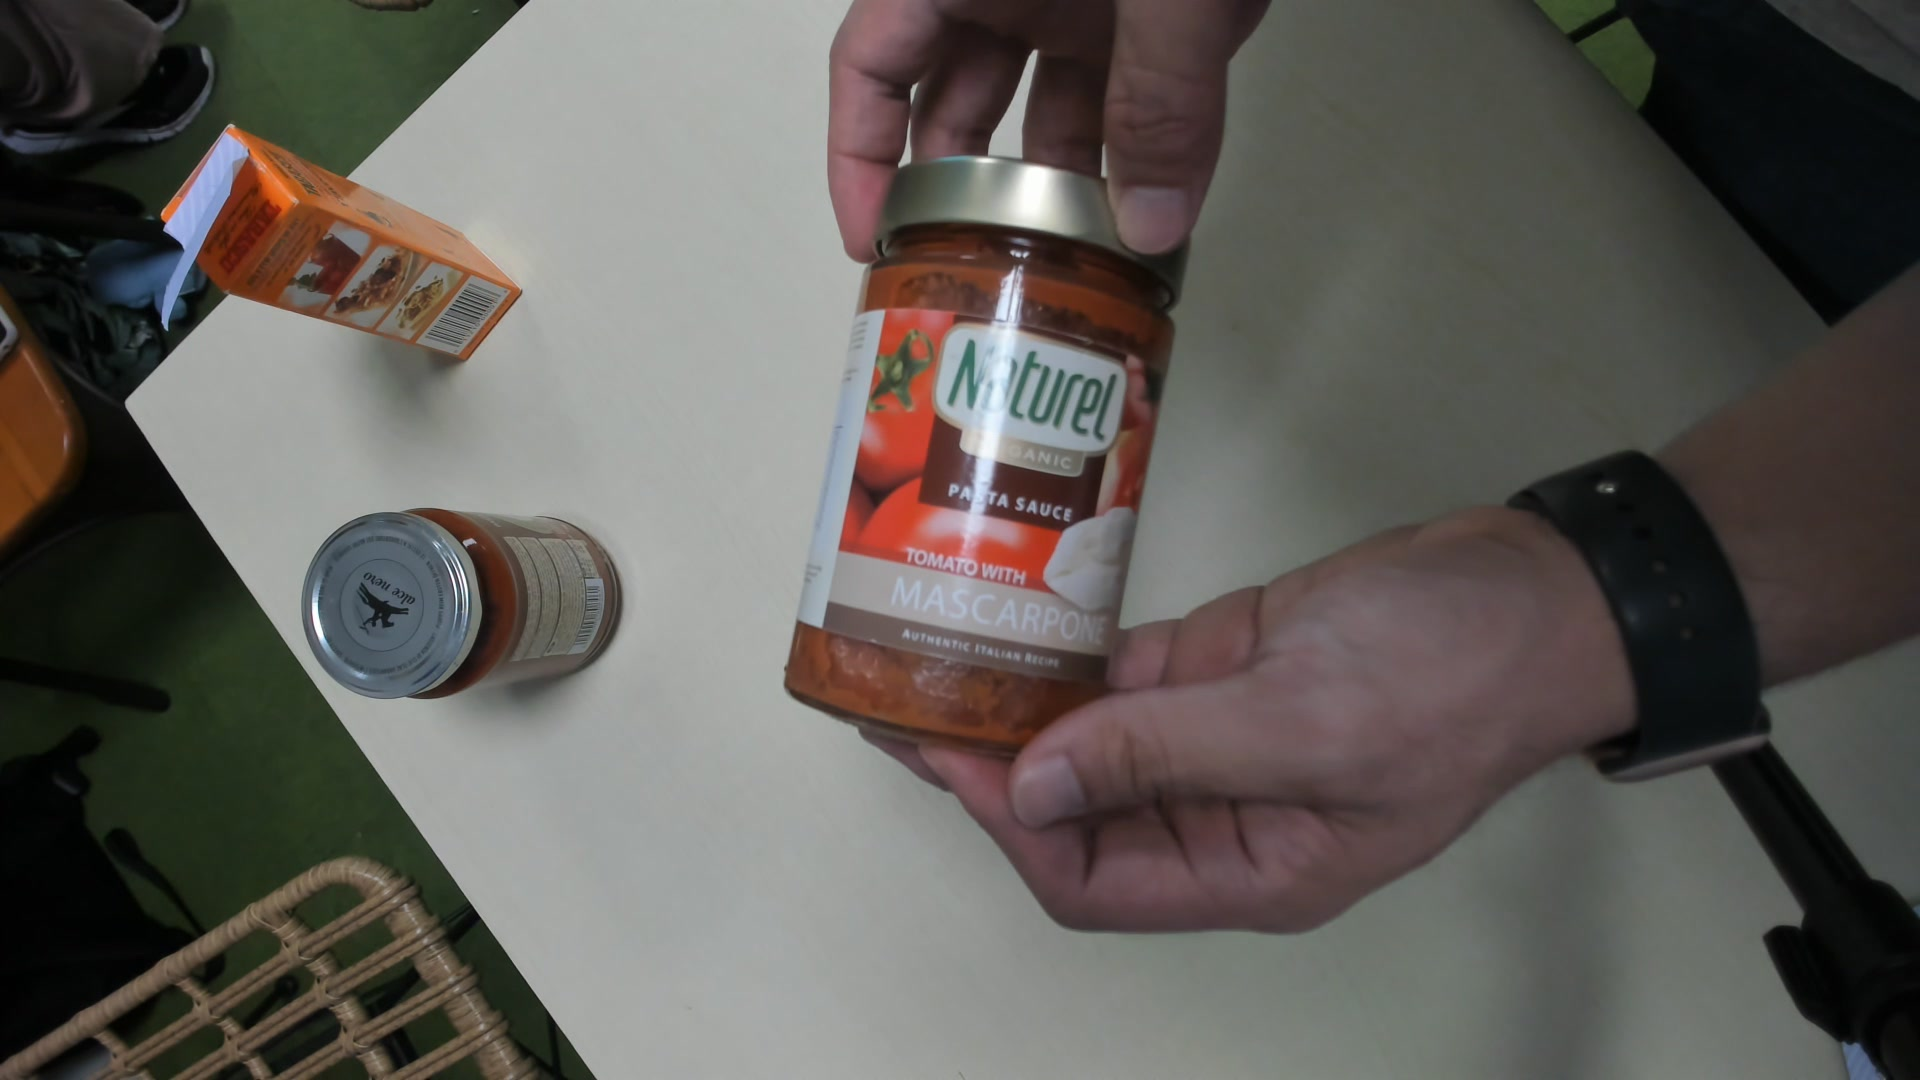PastaSauce_300-399g_NonHalal_NonHealthy: (779, 156, 1197, 762)
